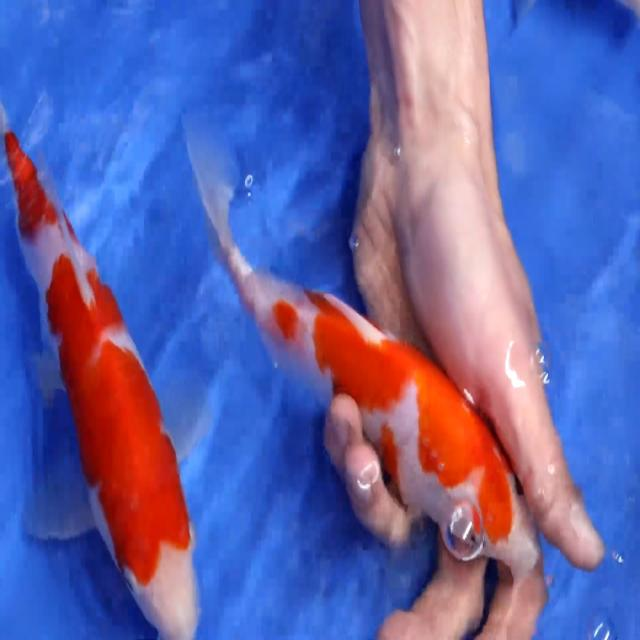Kohaku: (181, 105, 545, 582), (4, 126, 199, 638)
